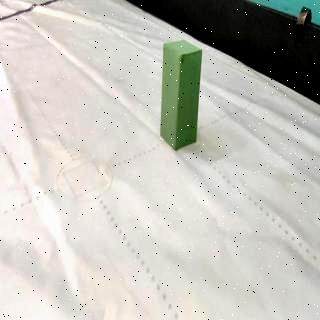greenbox: (159, 40, 203, 154)
